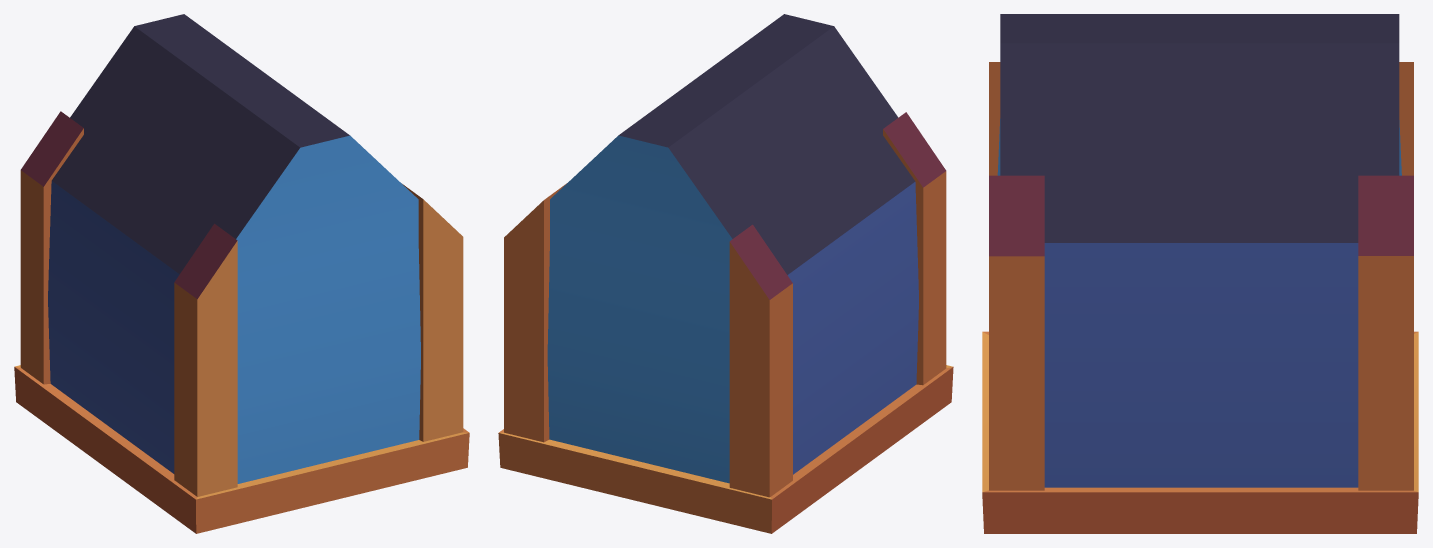
Rendered from House02_Blue_Wood.glb.
3 views of the same model, side by side, from view 1: azimuth 30°, elevation 25°; view 2: azimuth 150°, elevation 25°; view 3: azimuth 270°, elevation 25° (orthographic). The views are drawn at different scales.
Visible parts, largest first — view 1: House02_Blue_Wood; view 2: House02_Blue_Wood; view 3: House02_Blue_Wood.
Part boxes in pixels (x1,y1,x2,y2): House02_Blue_Wood: [14, 14, 469, 533]; House02_Blue_Wood: [498, 14, 953, 533]; House02_Blue_Wood: [982, 14, 1418, 533].
Bounding box in the file's own units: 2.04 × 2.52 × 2.34.
1 material, 1 textured.
